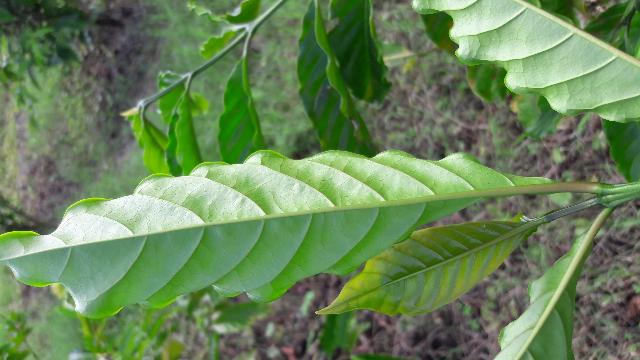healthy: (0, 150, 563, 315)
